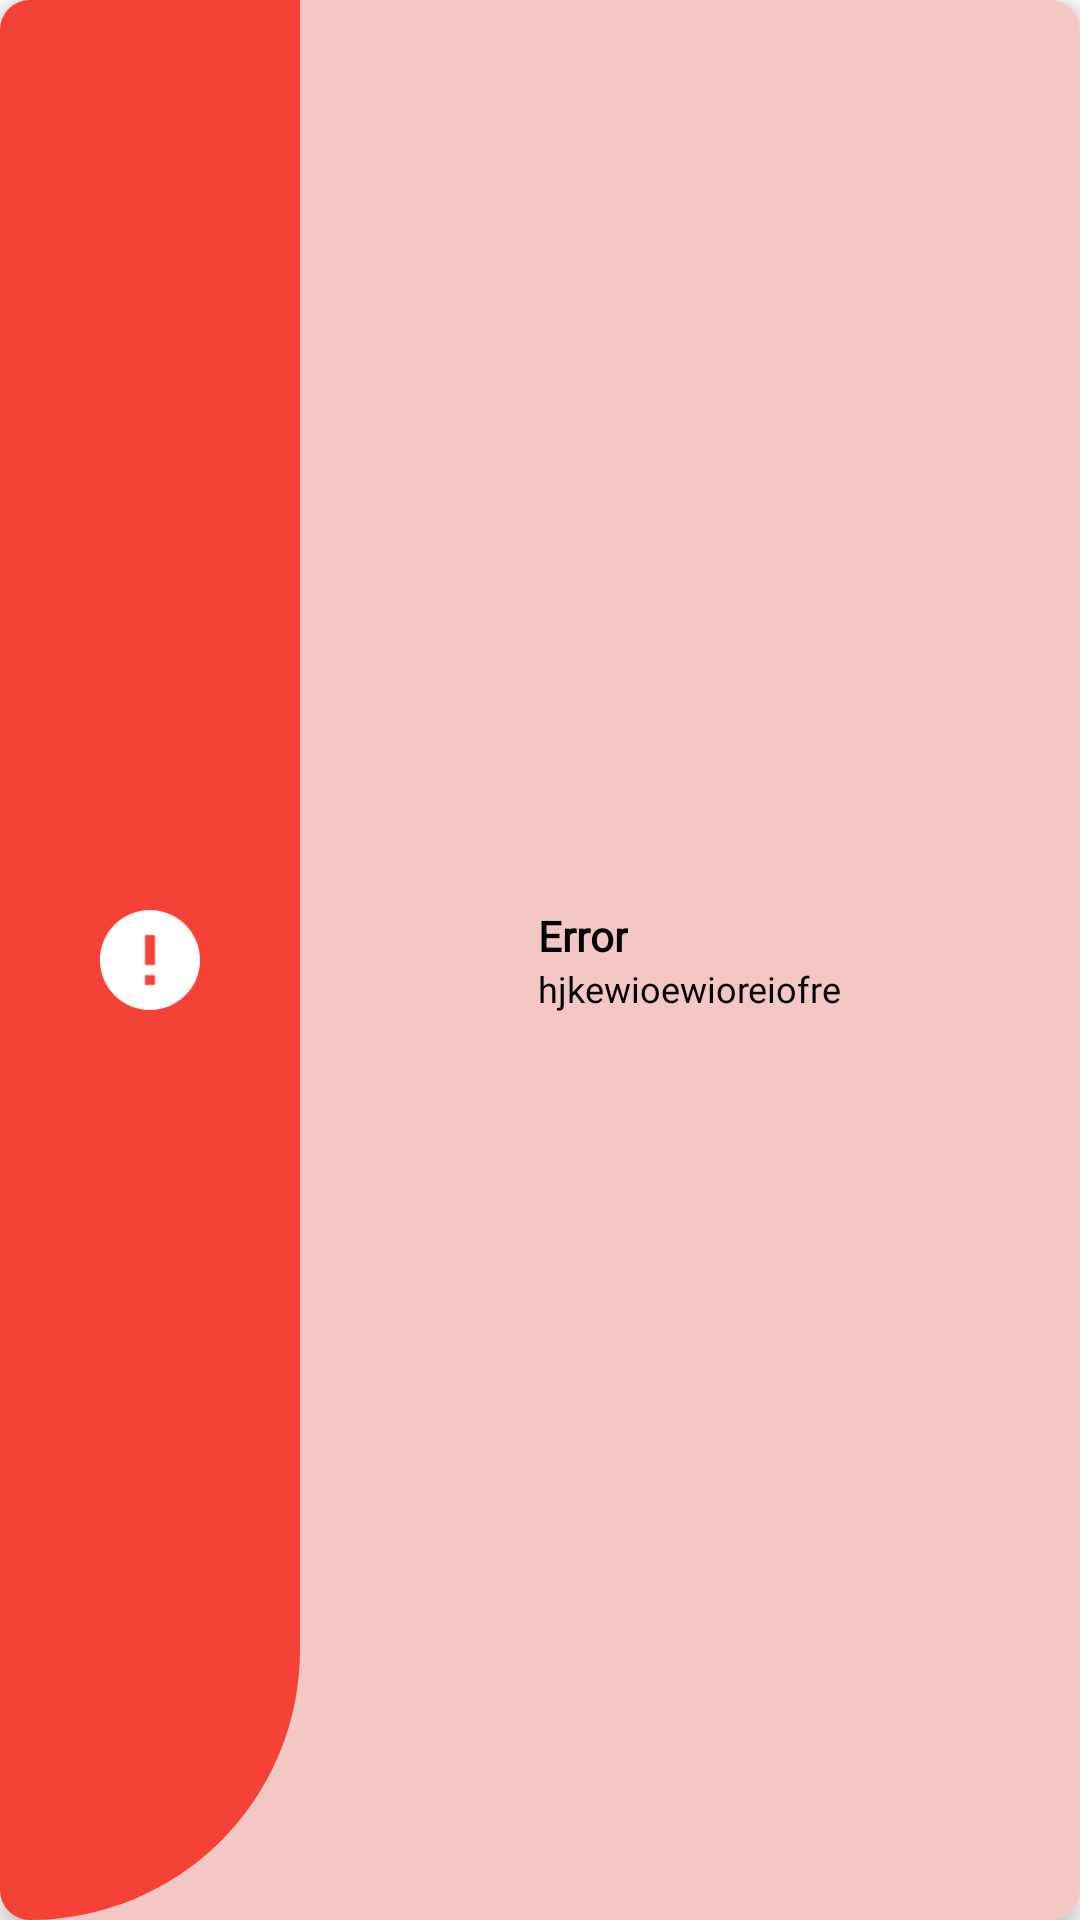

Named icons in this screenshot (1080 × 1920) and their bounding boxes, Rect(x1, y1, x2, y2):
error: Rect(100, 910, 200, 1010)
